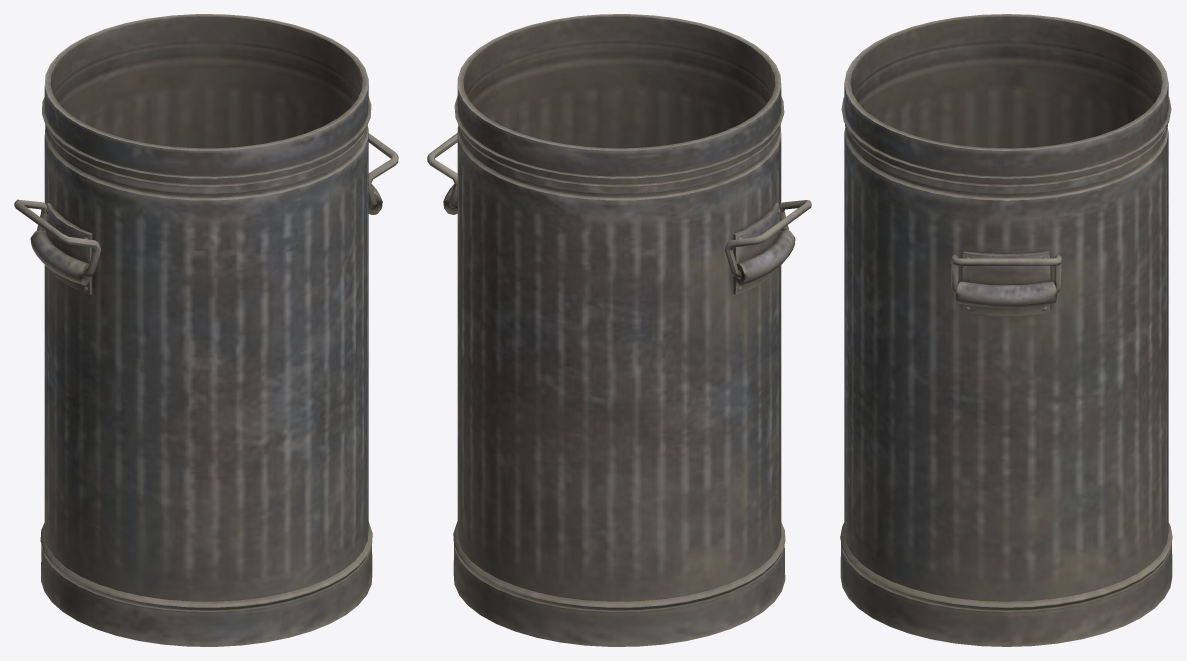
The model's file is metal_trash_can.glb.
The picture shows the model from 3 angles, left to right: view 1: azimuth 30°, elevation 25°; view 2: azimuth 150°, elevation 25°; view 3: azimuth 270°, elevation 25°; orthographic projection.
Visible parts, largest first — view 1: metal_trash_can; view 2: metal_trash_can; view 3: metal_trash_can.
Boxes of the visible parts, x1=… form: metal_trash_can: x1=14, y1=14, x2=398, y2=646; metal_trash_can: x1=427, y1=14, x2=811, y2=646; metal_trash_can: x1=840, y1=14, x2=1172, y2=646.
Bounding box in the file's own units: 0.6507 × 0.9062 × 0.5524.
Materials: 1 (1 with a texture image).
